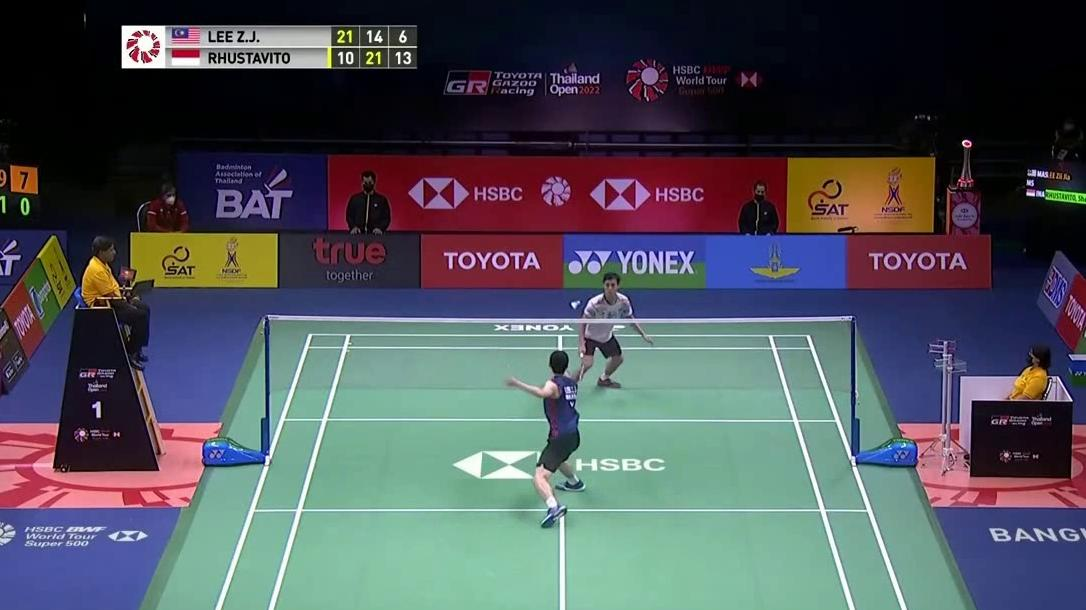racket: (578, 350, 587, 383)
shuttle: (569, 298, 582, 310)
